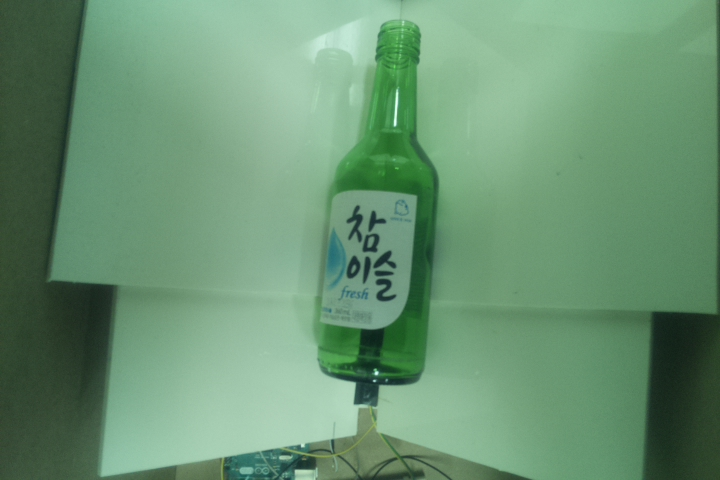soju: (313, 17, 439, 385)
